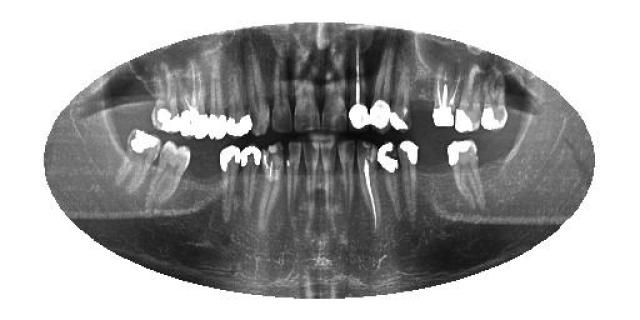Fillings: (108, 127, 162, 195), (446, 140, 486, 212), (225, 58, 253, 138), (398, 138, 424, 224), (378, 140, 403, 228), (454, 64, 484, 134), (218, 145, 242, 224), (480, 72, 509, 132), (239, 141, 261, 220), (368, 60, 392, 130), (148, 64, 172, 132), (206, 54, 225, 138), (390, 65, 411, 134)
Implant: (179, 62, 210, 140), (355, 140, 380, 234), (348, 36, 368, 132), (430, 64, 456, 131)
